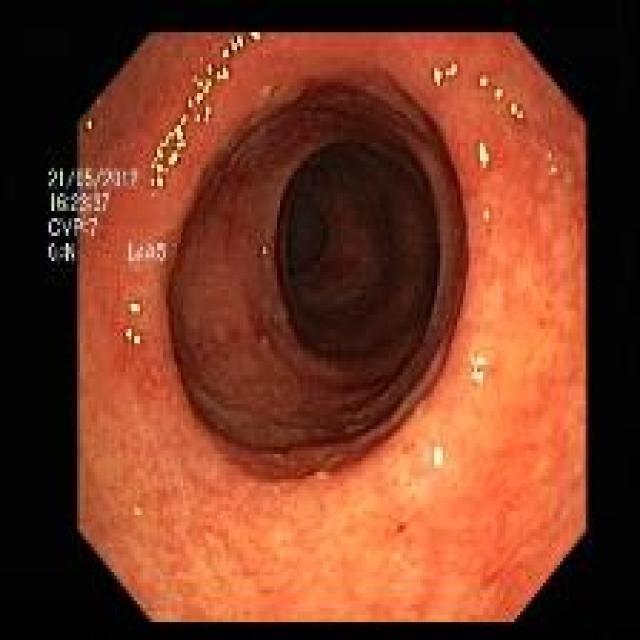ulcerative-colitis: (75, 33, 585, 621)
